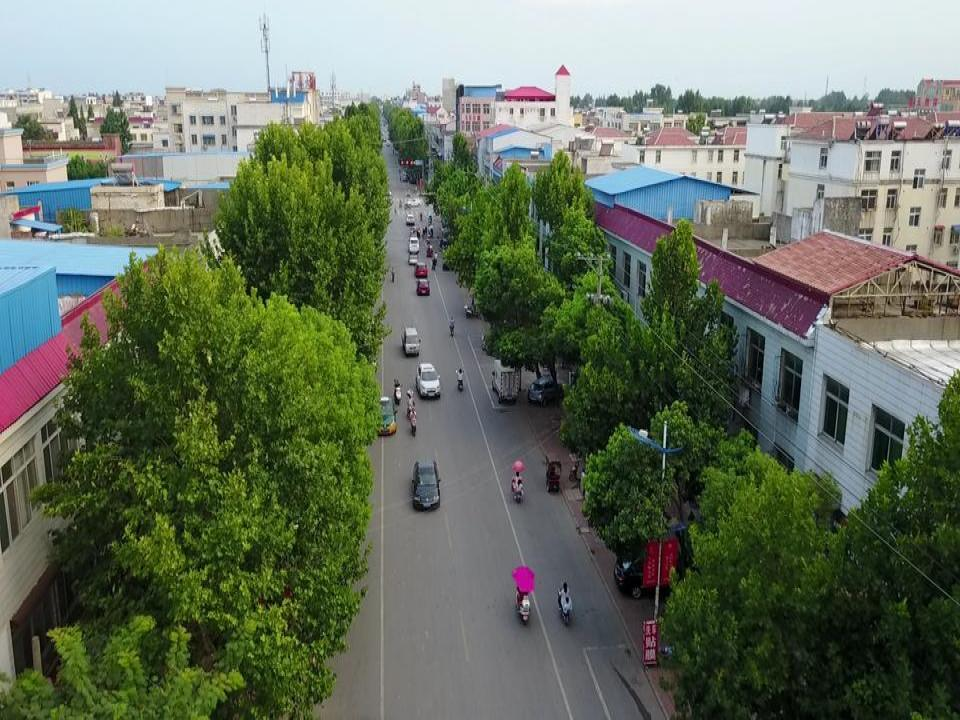car: (412, 459, 441, 509), (528, 377, 564, 406), (374, 396, 398, 433), (404, 197, 421, 207), (409, 227, 420, 236)
truck: (492, 358, 518, 402), (401, 323, 420, 356)
van: (614, 544, 689, 600), (416, 363, 441, 397), (415, 278, 430, 294), (414, 262, 428, 278), (408, 236, 419, 252), (408, 251, 418, 265), (405, 215, 415, 224), (410, 232, 417, 243)
